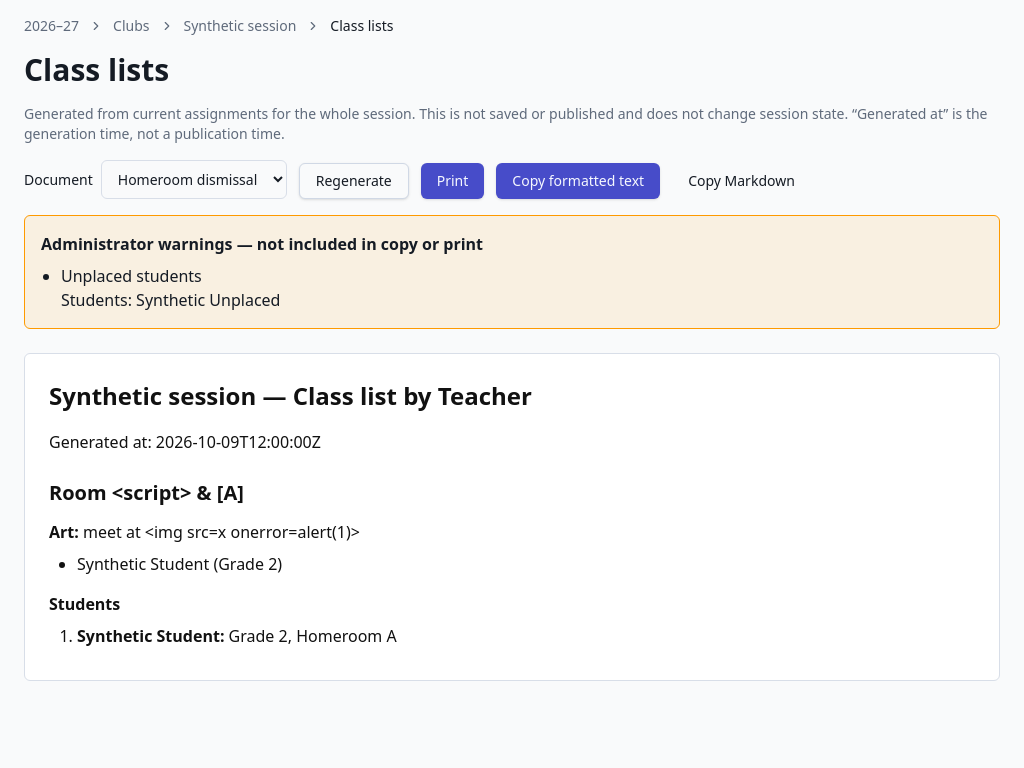
Test case: session artifacts › uses the configured homeroom label in preview, print, and copied titles
Expected: the heading "Synthetic session — Class list by Teacher" is shown, 49,379 -> 532,412
Click the button "Copy Markdown".
click(741, 181)  # box 672,163 -> 811,199
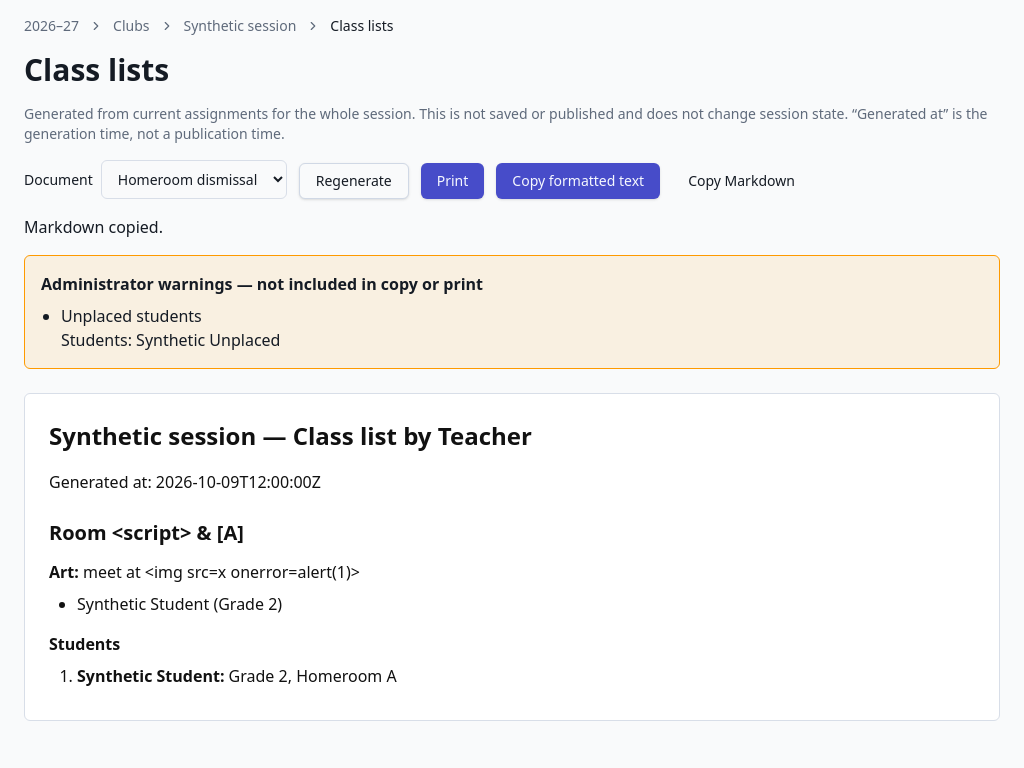
Expected: the text "Markdown copied." is shown, 24,216 -> 163,238
